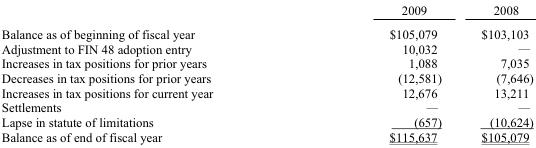table: (0, 1, 532, 144)
table column: (0, 1, 300, 144), (300, 1, 460, 144), (460, 1, 532, 144)
table column header: (0, 1, 532, 21)
table row: (0, 1, 532, 21), (0, 21, 532, 40), (0, 128, 532, 144), (0, 40, 532, 55), (0, 55, 532, 70), (0, 84, 532, 99), (0, 99, 532, 114), (0, 70, 532, 84), (0, 114, 532, 128)
